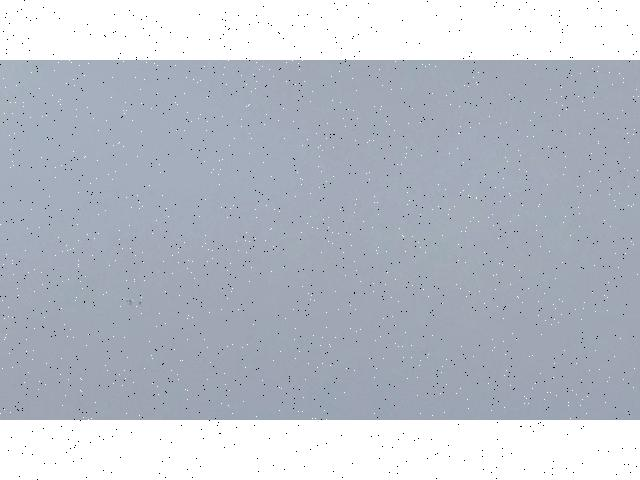Anti-Drone: (118, 293, 148, 309)
